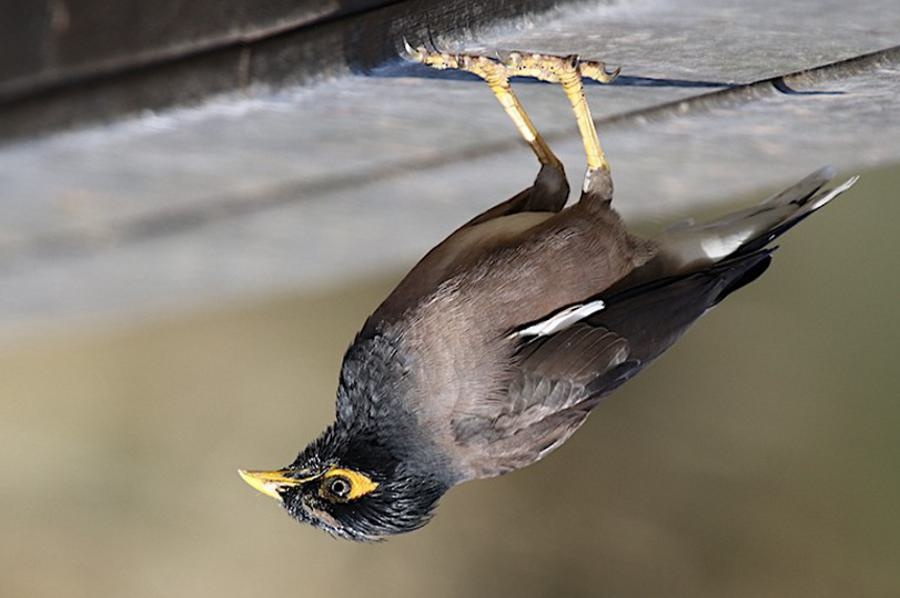myna: (242, 78, 747, 574)
